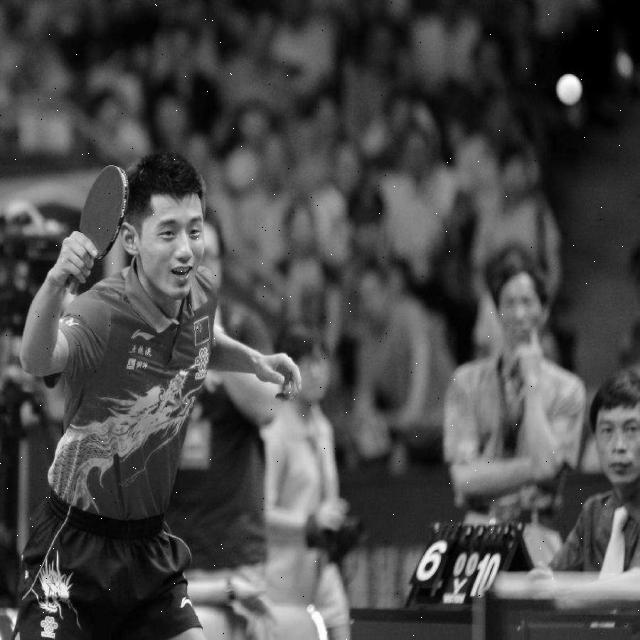ping-pong-ball: (550, 70, 584, 109)
